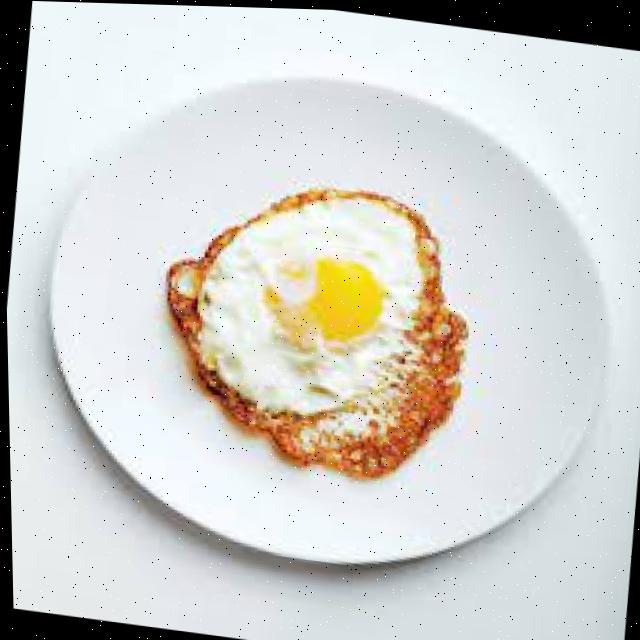Egg: (165, 186, 464, 475)
